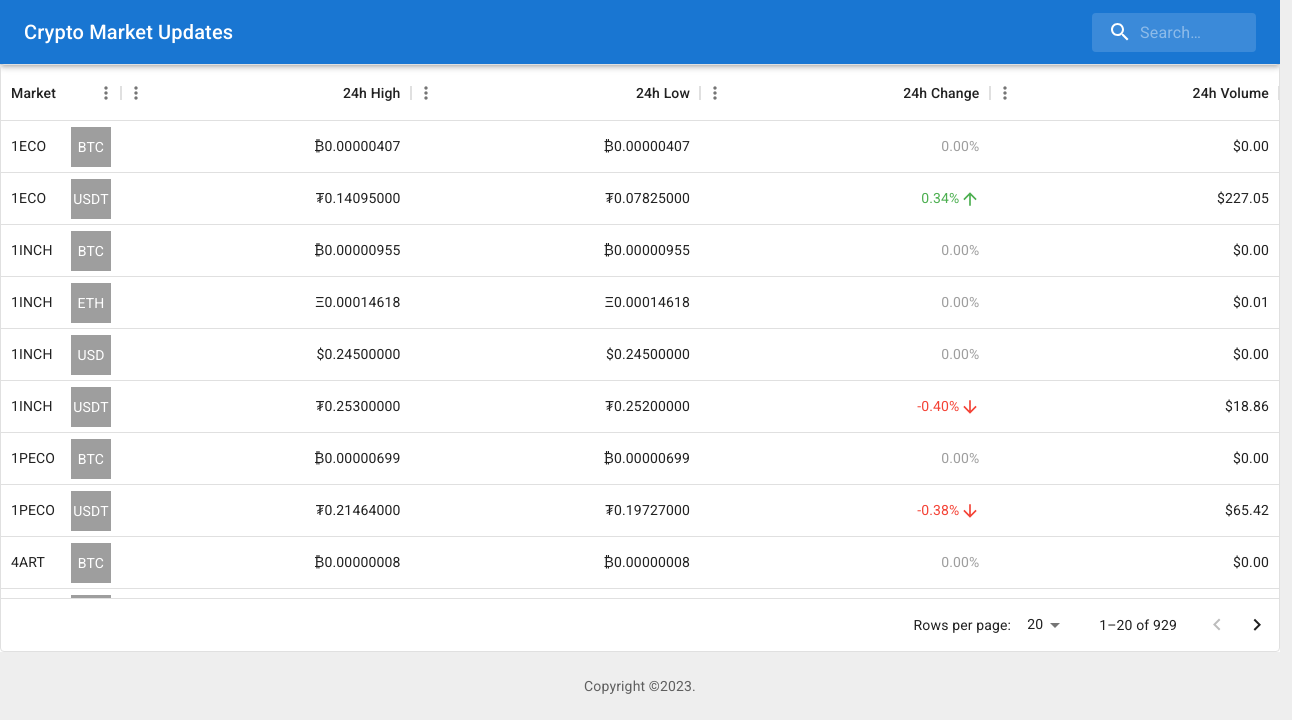
Test case: Page › should display all/single summary grid items
Expected: the 1st text "1ECO" is shown, [11,138,46,154]
// search for specific crypto market
In the field labelled "Search": x=1174, y=32 [1092,12,1256,52], type "LTC-BTC"
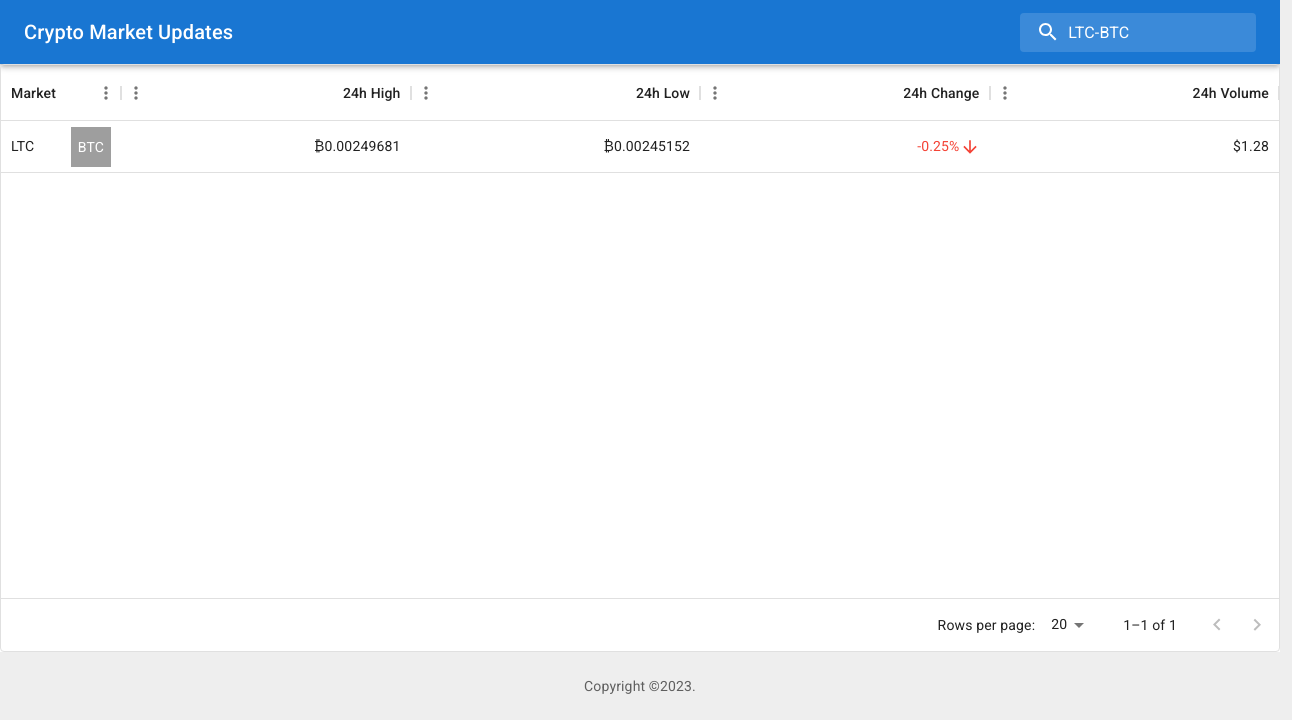
Expected: the text "LTC" is shown, [11,138,34,154]
Expected: the text "1–1 of 1" is shown, [1123,615,1177,635]
// clear search input to fetch summaries
Clear the field named "Search": x=1138, y=32 [1020,12,1256,52]
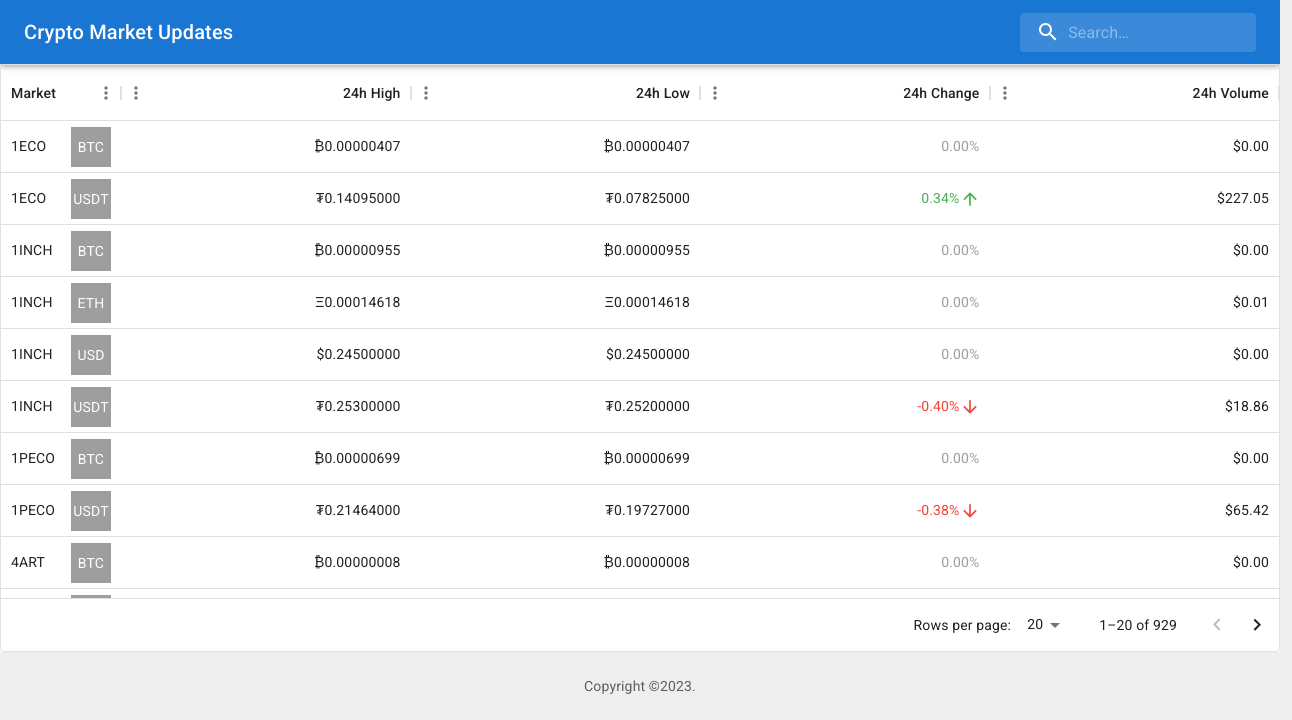
Expected: the 1st text "1ECO" is shown, [11,138,46,154]
